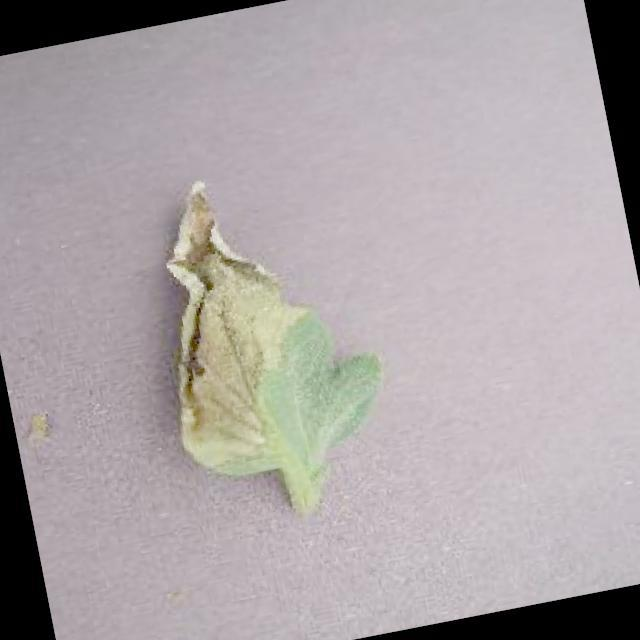Tomato late blight leaf: (134, 145, 398, 492)
